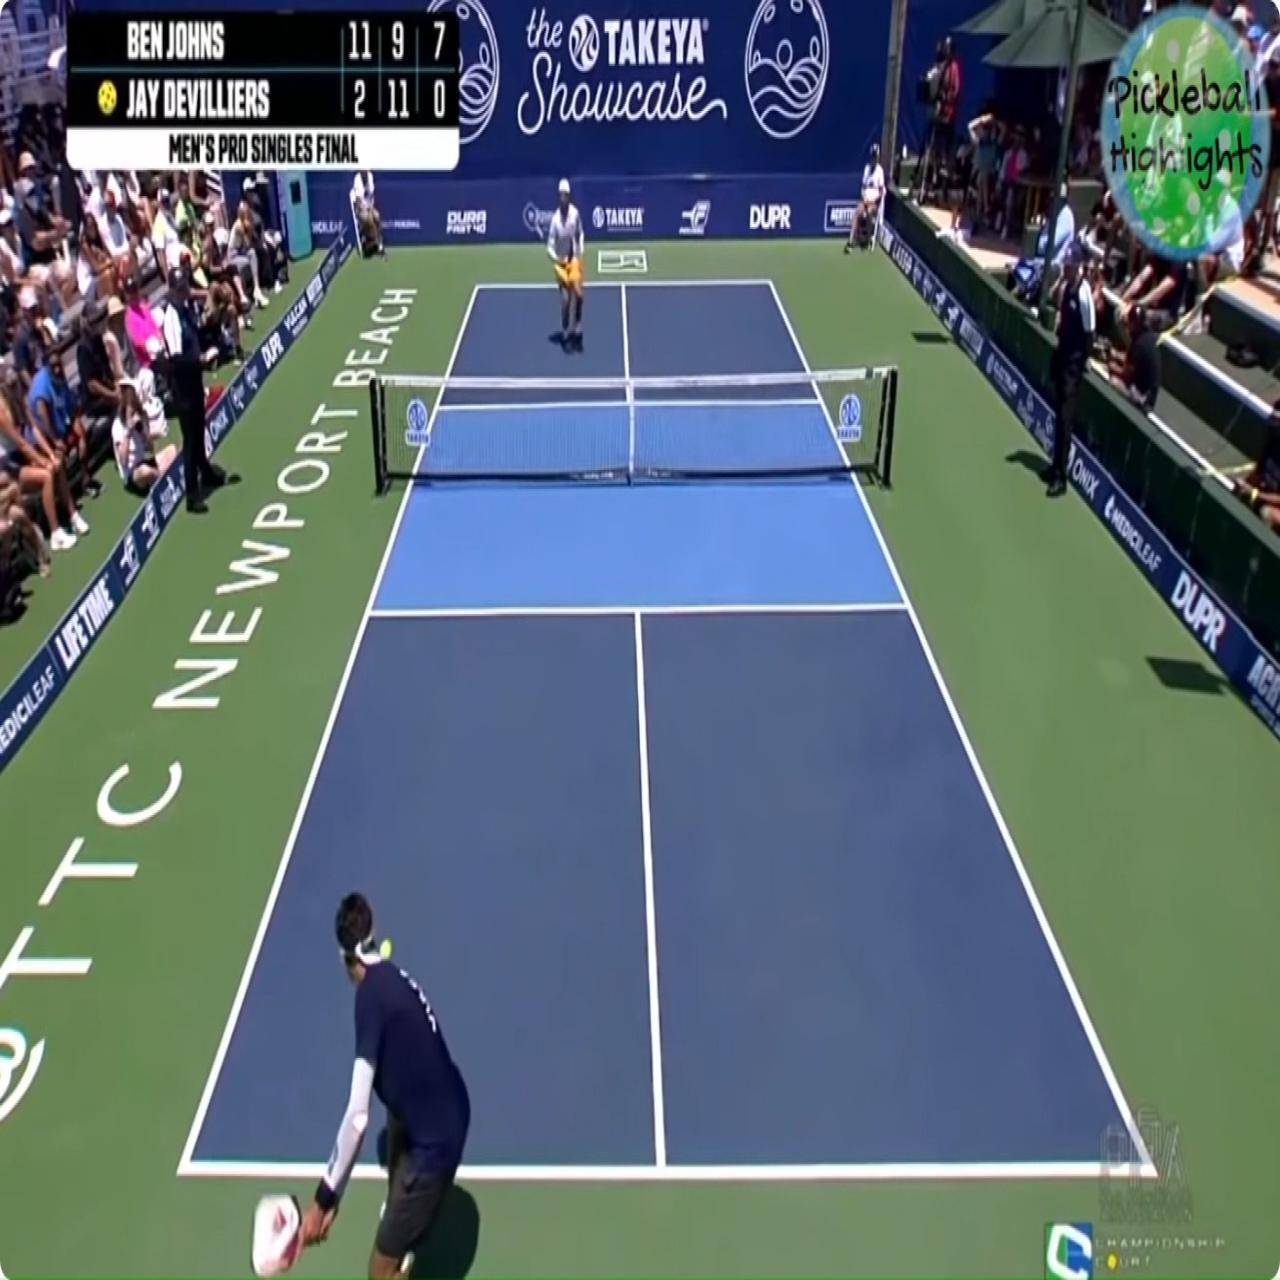pickleball: (380, 939, 393, 959)
